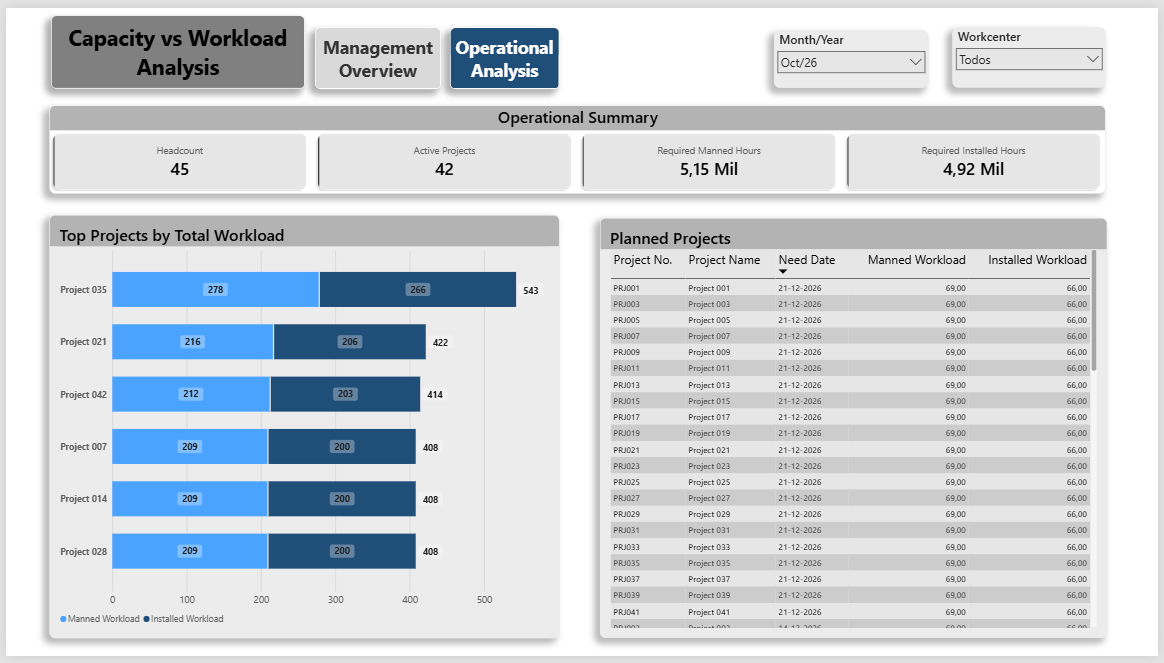

What the dashboard file says about the page in this screenshot:
{"tool":"powerbi","page":{"name":"Operational Analysis","canvas":[1920,1080],"ordinal":1},"visuals":[{"type":"cardVisual","title":"Operational Summary","fields":{"Data":["_measures.headcount","_measures.project_count","Sum(planning_engine vw_detailed_workload.required_manned_hours)","Sum(planning_engine vw_detailed_workload.required_installed_hours)"]},"box":[72,162,1760,146.7],"z":0},{"type":"slicer","fields":{"Values":["planning_engine dim_date.month_year_name"]},"box":[1280,37.5,257.5,95],"z":1000},{"type":"slicer","fields":{"Values":["planning_engine dim_workcenter.workcenter"]},"box":[1578.1,33.4,255.5,100.2],"z":2000},{"type":"shape","box":[74.4,12.2,423.3,122.2],"z":3000},{"type":"shape","box":[740,32.5,182.5,102.5],"z":4000},{"type":"shape","box":[515,32.5,210,102.5],"z":5000},{"type":"barChart","title":"Top Projects by Total Workload","fields":{"Category":["planning_engine vw_detailed_workload.project_name"],"Y":["Sum(planning_engine vw_detailed_workload.required_manned_hours)","Sum(planning_engine vw_detailed_workload.required_installed_hours)"]},"box":[72.5,345,850,705],"z":6000},{"type":"tableEx","title":"Planned Projects","fields":{"Values":["planning_engine vw_detailed_workload.project_number","planning_engine vw_detailed_workload.project_name","planning_engine vw_detailed_workload.need_date","Sum(planning_engine vw_detailed_workload.required_manned_hours)","Sum(planning_engine vw_detailed_workload.required_installed_hours)"]},"box":[990,350,845,700],"z":7000}]}

Visuals, with their boxes in screenshot pixels (x1, y1, x2, y2), scaled from the page's 1920x1080 canvas onto the 1164x663 screenshot:
"Operational Summary" cardVisual: (44, 99, 1111, 190)
slicer - planning_engine dim_date.month_year_name: (776, 23, 932, 81)
slicer - planning_engine dim_workcenter.workcenter: (957, 21, 1112, 82)
shape: (45, 7, 302, 83)
shape: (449, 20, 559, 83)
shape: (312, 20, 440, 83)
"Top Projects by Total Workload" barChart: (44, 212, 559, 645)
"Planned Projects" tableEx: (600, 215, 1112, 645)
